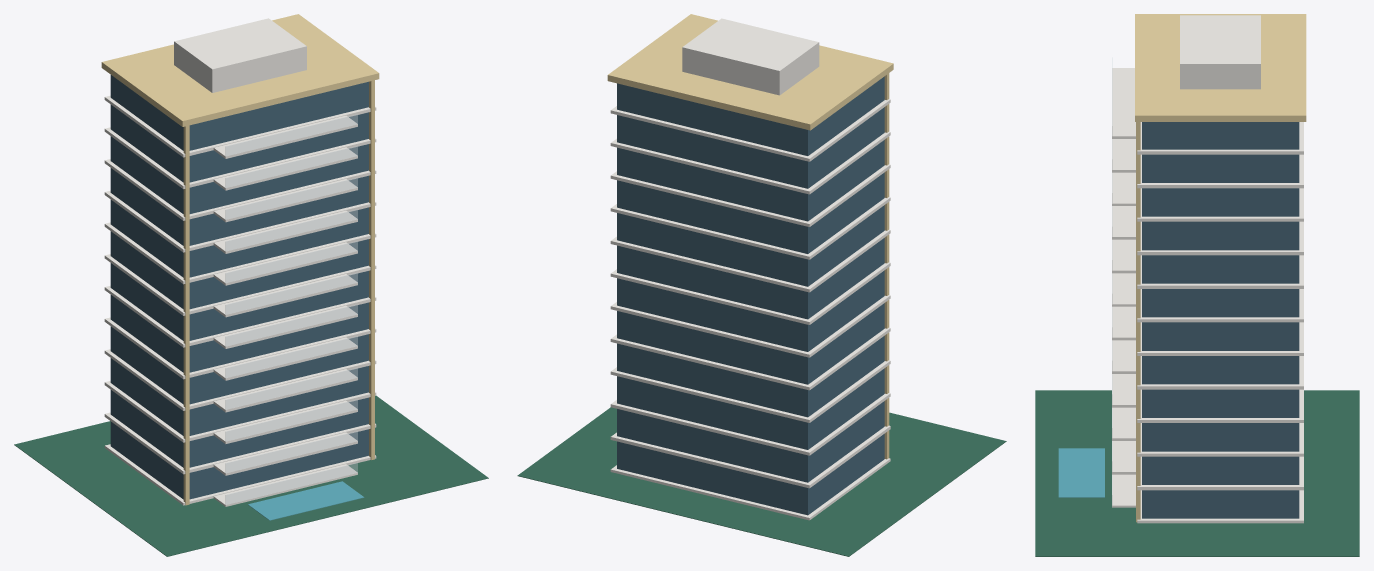
The model's file is galaxy-residence.glb.
3 renders of one model, left to right at view 1: azimuth 30°, elevation 25°; view 2: azimuth 150°, elevation 25°; view 3: azimuth 270°, elevation 25°, orthographic. The views are drawn at different scales.
Visible parts, largest first — view 1: lawn, crown, roof, glass11, glass3, glass0, glass8, glass6, glass7, glass1, glass4, glass10 (+40 smaller); view 2: lawn, crown, glass1, glass6, glass8, glass9, glass10, glass0, glass2, glass3, glass4, glass5 (+15 smaller); view 3: lawn, crown, roof, glass8, glass0, glass2, glass5, glass7, glass9, glass1, glass3, glass4 (+28 smaller).
Part boxes in pixels (x1,y1,x2,y2): lawn: [14, 395, 488, 556]; crown: [101, 14, 379, 126]; roof: [174, 18, 306, 92]; glass11: [110, 75, 368, 150]; glass3: [110, 326, 368, 404]; glass0: [110, 421, 368, 499]; glass8: [110, 168, 368, 245]; glass6: [110, 231, 368, 309]; glass7: [110, 200, 368, 277]; glass1: [110, 390, 368, 467]; glass4: [110, 295, 368, 372]; glass10: [110, 104, 368, 182]; lawn: [517, 407, 1006, 556]; crown: [607, 14, 893, 130]; glass1: [617, 401, 884, 482]; glass6: [617, 238, 884, 319]; glass8: [617, 172, 884, 253]; glass9: [617, 140, 884, 221]; glass10: [617, 107, 884, 188]; glass0: [617, 434, 884, 515]; glass2: [617, 368, 884, 449]; glass3: [617, 336, 884, 417]; glass4: [617, 303, 884, 384]; glass5: [617, 270, 884, 351]; lawn: [1035, 390, 1359, 556]; crown: [1135, 14, 1306, 121]; roof: [1180, 15, 1260, 89]; glass8: [1142, 221, 1299, 250]; glass0: [1142, 490, 1299, 518]; glass2: [1142, 423, 1299, 451]; glass5: [1142, 322, 1299, 350]; glass7: [1142, 255, 1299, 283]; glass9: [1142, 188, 1299, 216]; glass1: [1142, 456, 1299, 484]; glass3: [1142, 389, 1299, 417]; glass4: [1142, 356, 1299, 384].
Bounding box in the file's own units: 34 × 41.41 × 28.
